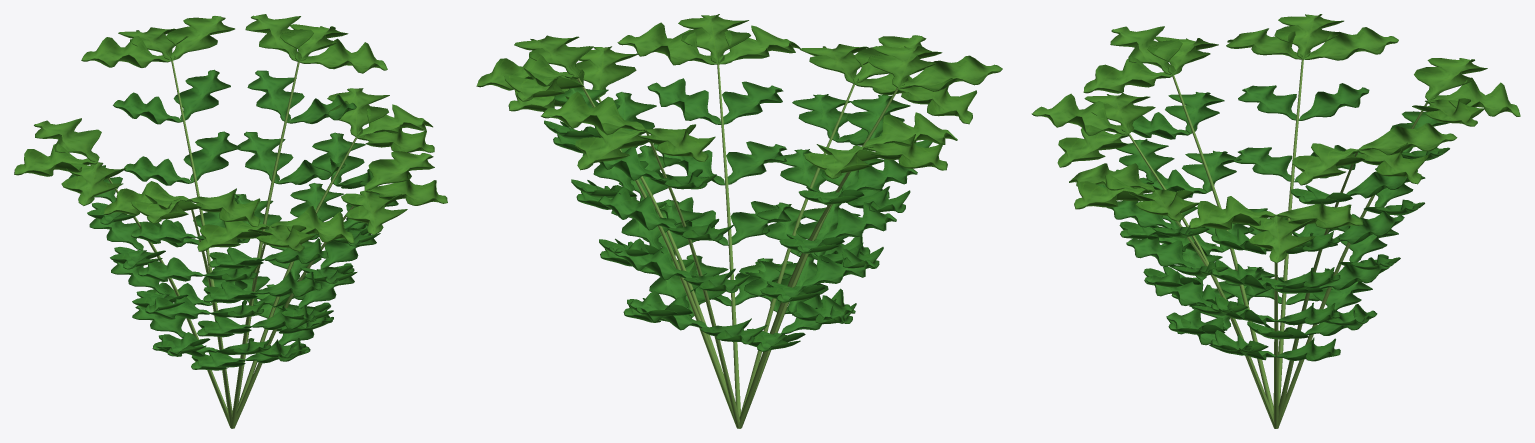
Rendered from herbs-parsley-mobile.glb.
3 renders of one model, left to right at view 1: azimuth 30°, elevation 25°; view 2: azimuth 150°, elevation 25°; view 3: azimuth 270°, elevation 25°, orthographic. The views are drawn at different scales.
Visible parts, largest first — view 1: Herbs · Parsley; view 2: Herbs · Parsley; view 3: Herbs · Parsley.
Boxes of the visible parts, x1=… form: Herbs · Parsley: x1=14, y1=14, x2=447, y2=428; Herbs · Parsley: x1=476, y1=14, x2=1002, y2=428; Herbs · Parsley: x1=1031, y1=14, x2=1520, y2=428.
Bounding box in the file's own units: 0.3236 × 0.2546 × 0.3209.
3 materials, 2 textured.
